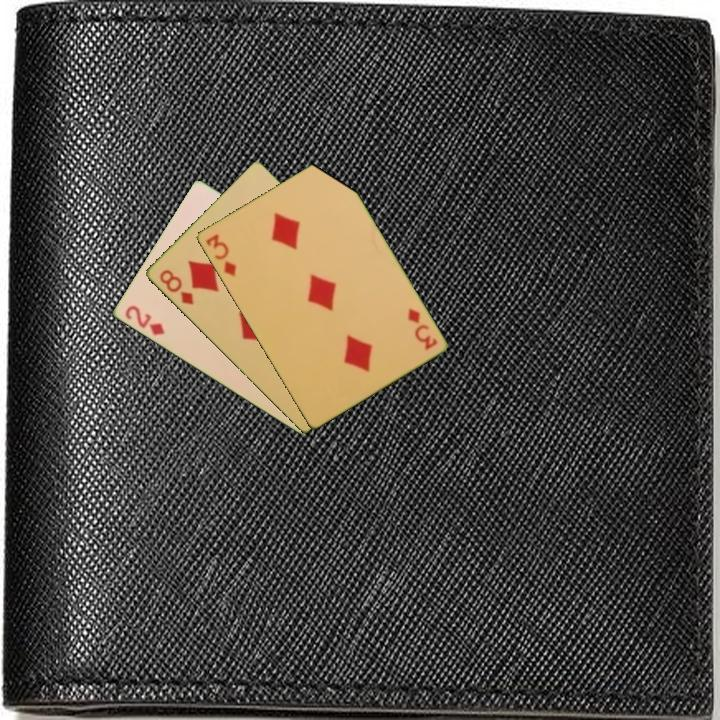2d: (121, 302, 167, 339)
3d: (201, 230, 239, 279), (403, 305, 440, 353)
8d: (155, 266, 196, 308)
